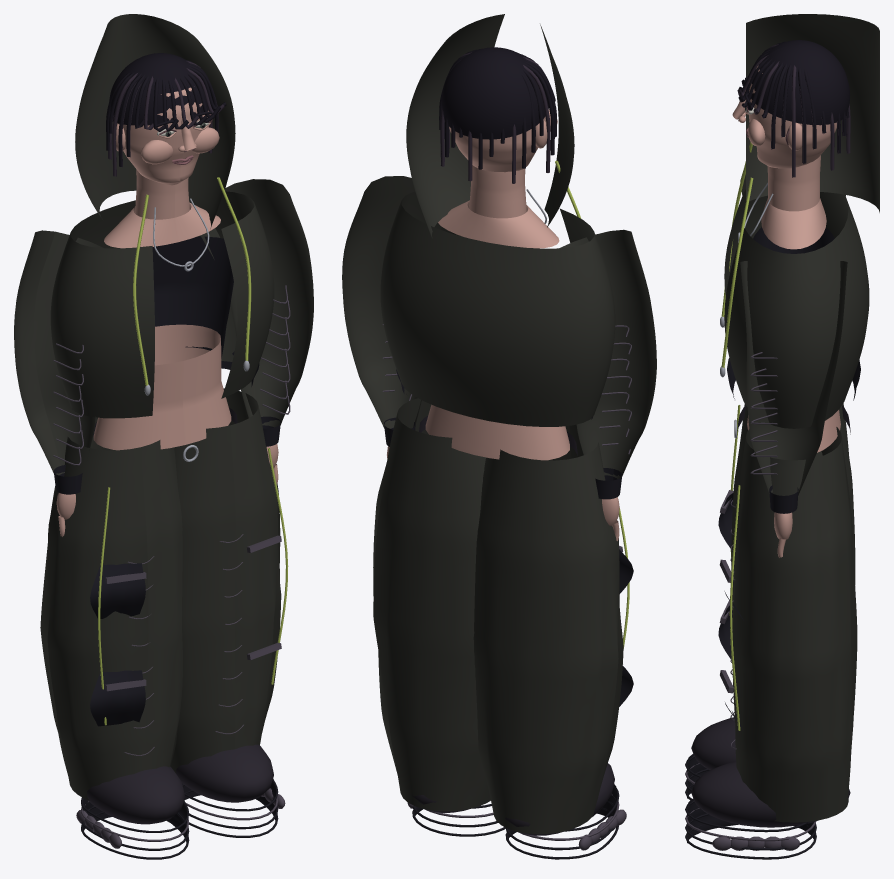
The model's file is look-3-detail.glb.
The picture shows the model from 3 angles, left to right: view 1: azimuth 30°, elevation 25°; view 2: azimuth 150°, elevation 25°; view 3: azimuth 270°, elevation 25°; orthographic projection. The views are drawn at different scales.
Visible parts, largest first — view 1: look-3-detail, leg-0, leg-1, arm-1, arm-0; view 2: look-3-detail, leg-0, leg-1, arm-0, arm-1; view 3: look-3-detail, leg-1, arm-1, leg-0.
Boxes of the visible parts, bbox=[...] form: look-3-detail: bbox=[50, 14, 274, 461]; leg-0: bbox=[40, 417, 189, 859]; leg-1: bbox=[170, 388, 288, 837]; arm-1: bbox=[200, 179, 313, 484]; arm-0: bbox=[14, 230, 103, 536]; look-3-detail: bbox=[380, 14, 615, 460]; leg-0: bbox=[473, 424, 633, 859]; leg-1: bbox=[373, 398, 505, 836]; arm-0: bbox=[559, 229, 656, 541]; arm-1: bbox=[342, 176, 457, 458]; look-3-detail: bbox=[720, 14, 879, 452]; leg-1: bbox=[685, 427, 857, 859]; arm-1: bbox=[740, 261, 847, 557]; leg-0: bbox=[685, 403, 855, 800].
Bounding box in the file's own units: 0.8164 × 2.08 × 0.4647.
